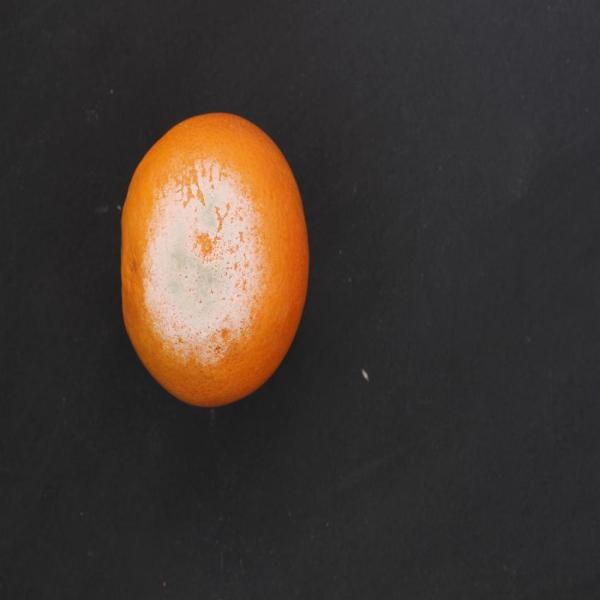Moho verde: (109, 107, 321, 420)
